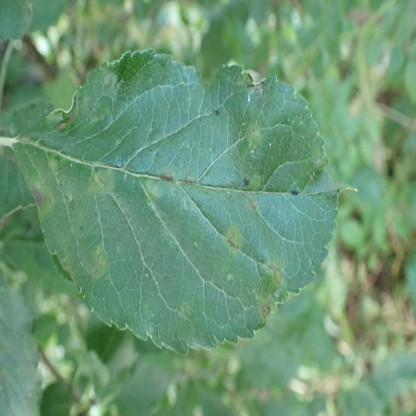scab: (142, 170, 176, 198), (29, 181, 54, 217), (265, 253, 285, 293), (90, 244, 108, 285), (88, 171, 114, 195), (224, 224, 241, 257), (258, 292, 277, 321), (247, 123, 262, 153), (89, 105, 111, 123), (47, 155, 59, 175), (236, 72, 250, 87), (181, 173, 196, 186), (63, 264, 75, 280), (178, 301, 191, 315)
